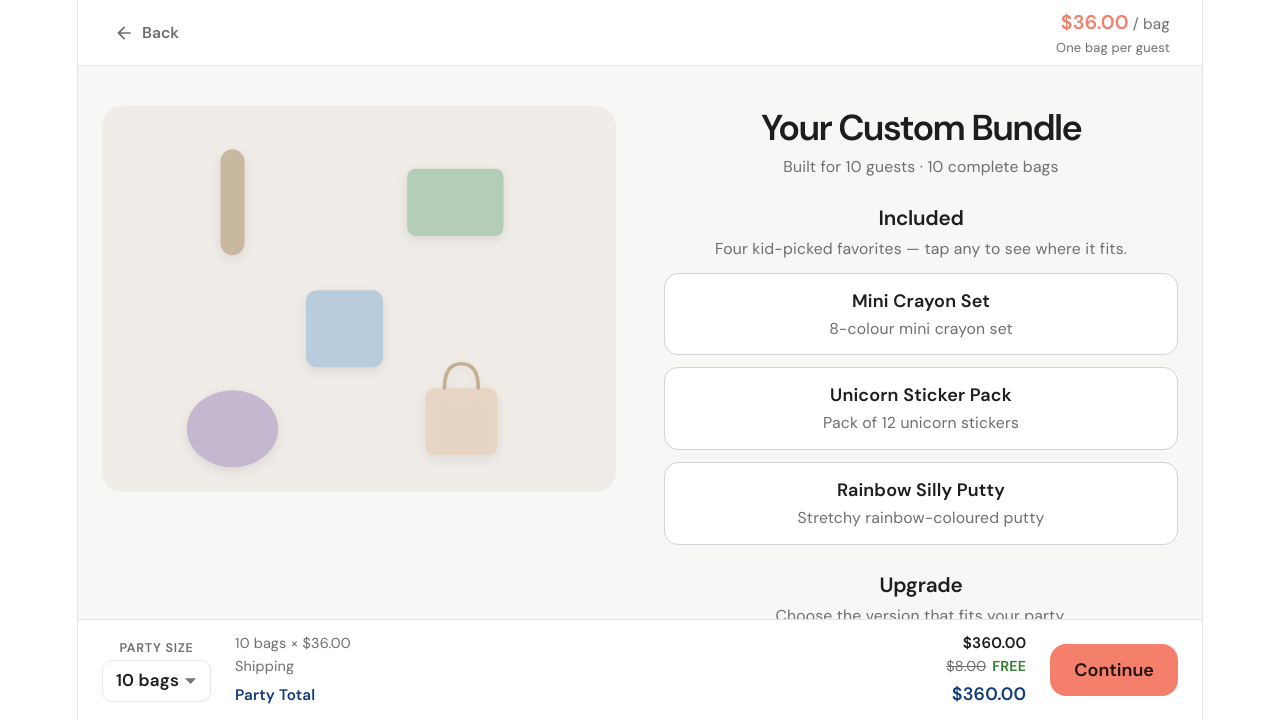
Test: BundleCustomizationPage — Continue button › clicking Continue shows confirmation and hides the button
Check: the heading "Your Custom Bundle" is shown, box [761,104,1081,151]
Click the button with test id "continue-btn" at (1114,670), box [1050,644,1178,696]
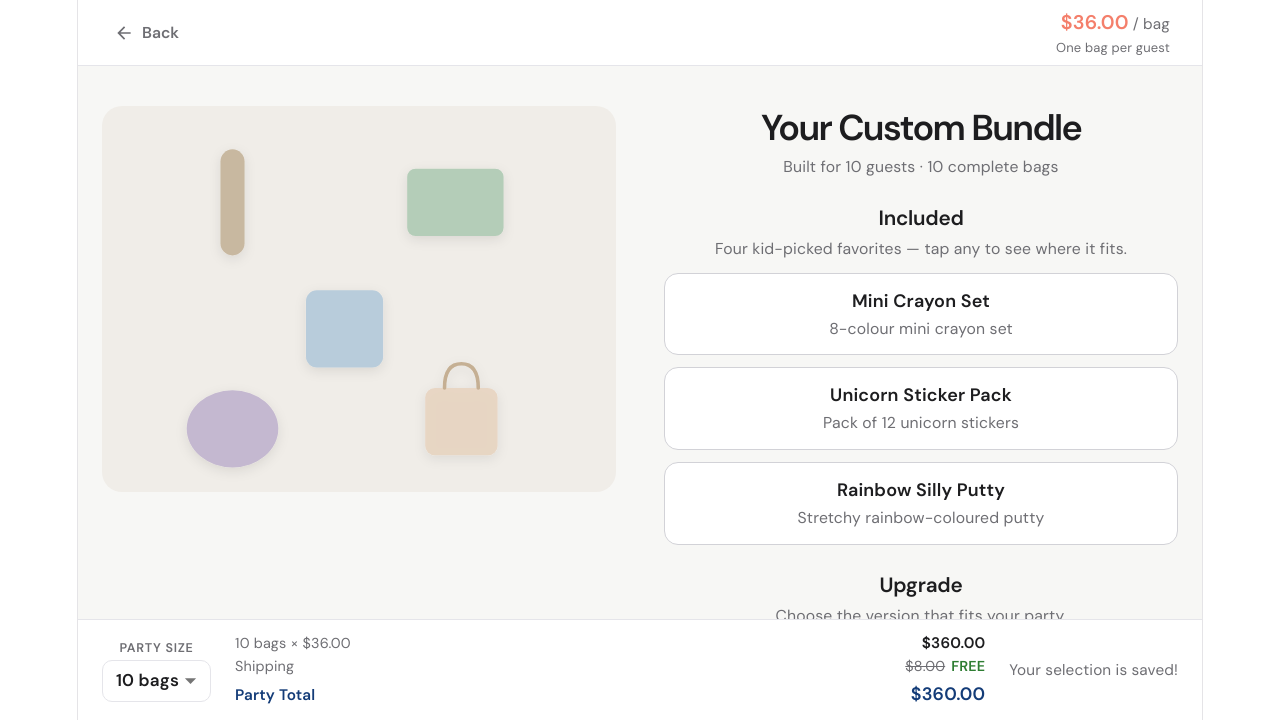
Check: the text "Your selection is saved!" is shown, box [1009,659,1178,682]
Check: the button with test id "continue-btn" is gone
